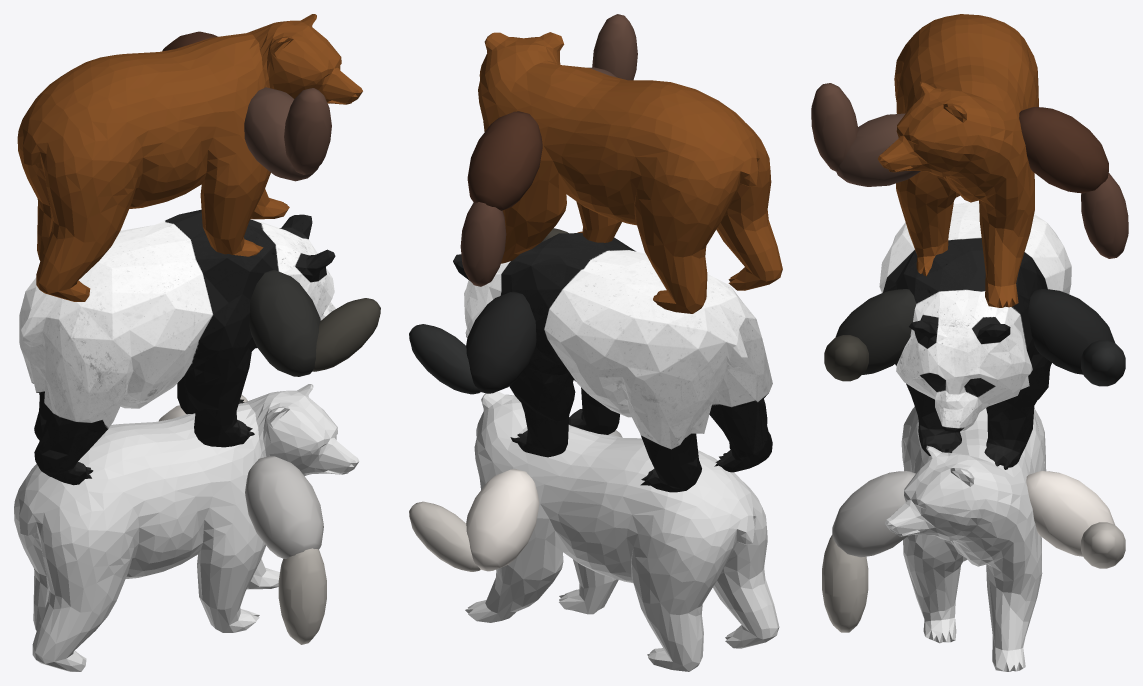
Rendered from bearbear3.glb.
3 renders of one model, left to right at view 1: azimuth 30°, elevation 25°; view 2: azimuth 150°, elevation 25°; view 3: azimuth 270°, elevation 25°, orthographic. The views are drawn at different scales.
Visible parts, largest first — view 1: brown_bear1, brown_bear002, panda1, pbRUArm.001, pRUArm.001, pbRFArm.001, bbRUArm.001, bbRFArm.001, pRFArm.001; view 2: brown_bear1, panda1, brown_bear002, bbLUArm.001, pbLUArm.001, pLUArm.001, bbLFArm.001, pLFArm.001, pbLFArm.001, bbRFArm.001; view 3: brown_bear1, panda1, brown_bear002, bbLUArm.001, pLUArm.001, pbLUArm.001, pbRUArm.001, pRUArm.001, pbRFArm.001, bbRUArm.001, bbRFArm.001, bbLFArm.001 (+3 smaller).
Boxes of the visible parts, x1,y1,x2,y2 form: brown_bear1: [17, 14, 362, 301]; brown_bear002: [14, 384, 359, 671]; panda1: [19, 209, 335, 485]; pbRUArm.001: [245, 456, 323, 558]; pRUArm.001: [249, 270, 320, 376]; pbRFArm.001: [278, 548, 326, 644]; bbRUArm.001: [244, 87, 318, 181]; bbRFArm.001: [284, 88, 331, 174]; pRFArm.001: [312, 298, 380, 371]; brown_bear1: [478, 32, 782, 313]; panda1: [453, 233, 772, 492]; brown_bear002: [465, 391, 779, 671]; bbLUArm.001: [467, 111, 542, 210]; pbLUArm.001: [466, 469, 539, 571]; pLUArm.001: [466, 291, 536, 393]; bbLFArm.001: [460, 202, 506, 286]; pLFArm.001: [409, 324, 480, 394]; pbLFArm.001: [409, 501, 480, 571]; bbRFArm.001: [592, 14, 637, 80]; brown_bear1: [878, 14, 1038, 307]; panda1: [879, 202, 1071, 469]; brown_bear002: [885, 406, 1046, 671]; bbLUArm.001: [1019, 107, 1108, 193]; pLUArm.001: [1028, 289, 1114, 374]; pbLUArm.001: [1026, 471, 1114, 556]; pbRUArm.001: [832, 471, 915, 557]; pRUArm.001: [835, 289, 916, 374]; pbRFArm.001: [822, 535, 868, 632]; bbRUArm.001: [836, 113, 920, 186]; bbRFArm.001: [811, 83, 858, 171]; bbLFArm.001: [1081, 173, 1128, 258].
Bounding box in the file's own units: 2.48 × 4.39 × 2.21.
18 materials, 1 textured.
